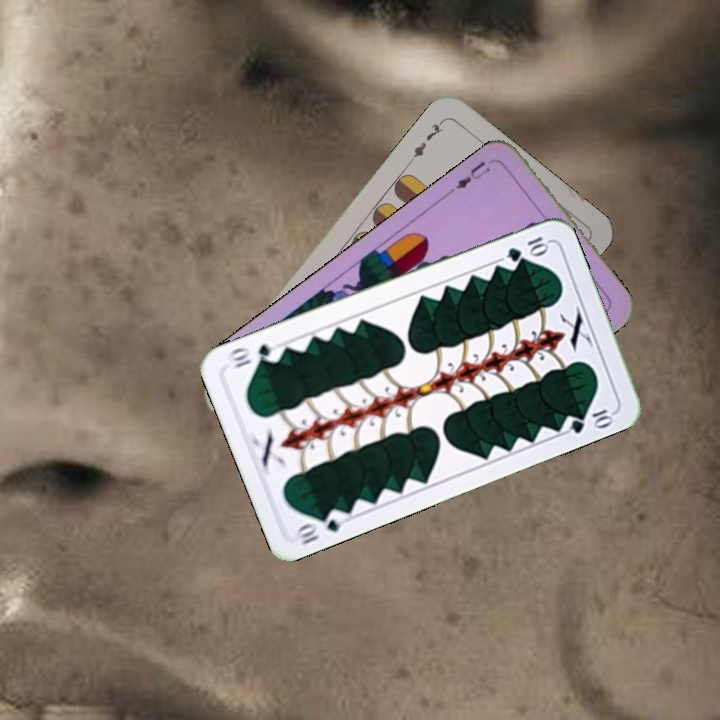E7: (405, 116, 447, 166)
EU: (447, 157, 493, 196)
G10: (290, 505, 346, 547), (503, 232, 551, 264)
